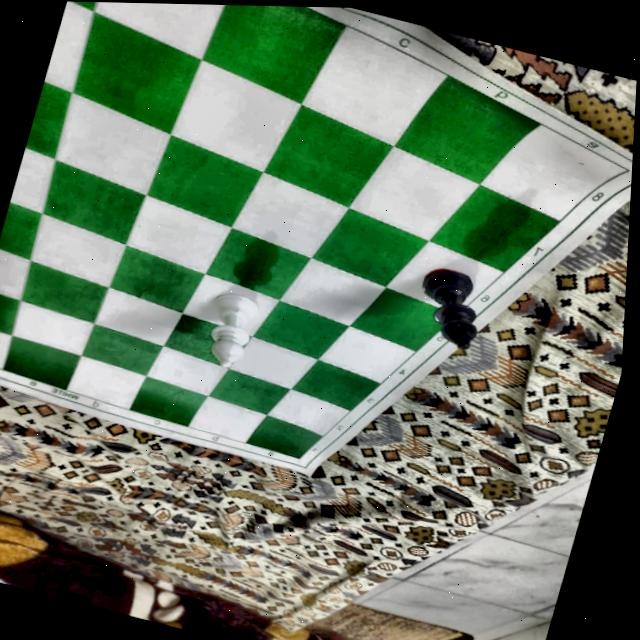BlackBishop: (404, 259, 495, 353)
WhiteBishop: (192, 286, 264, 374)
